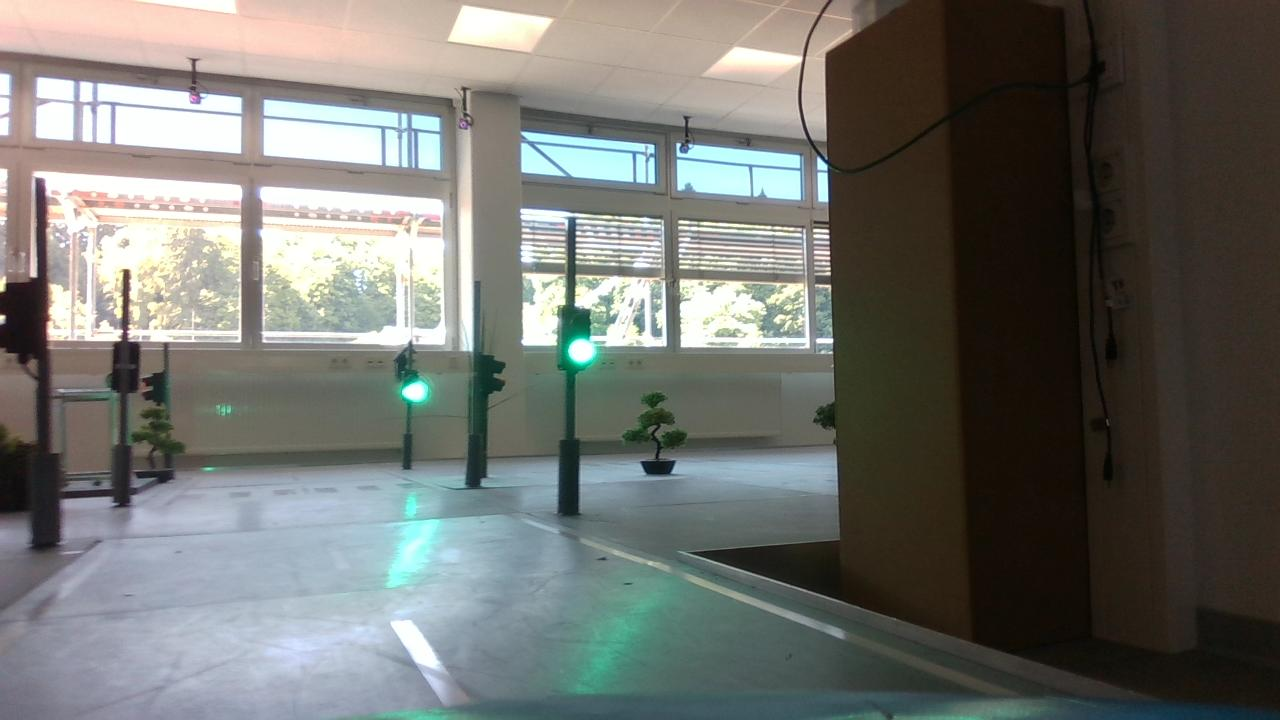traffic_light_green: (550, 295, 602, 387)
